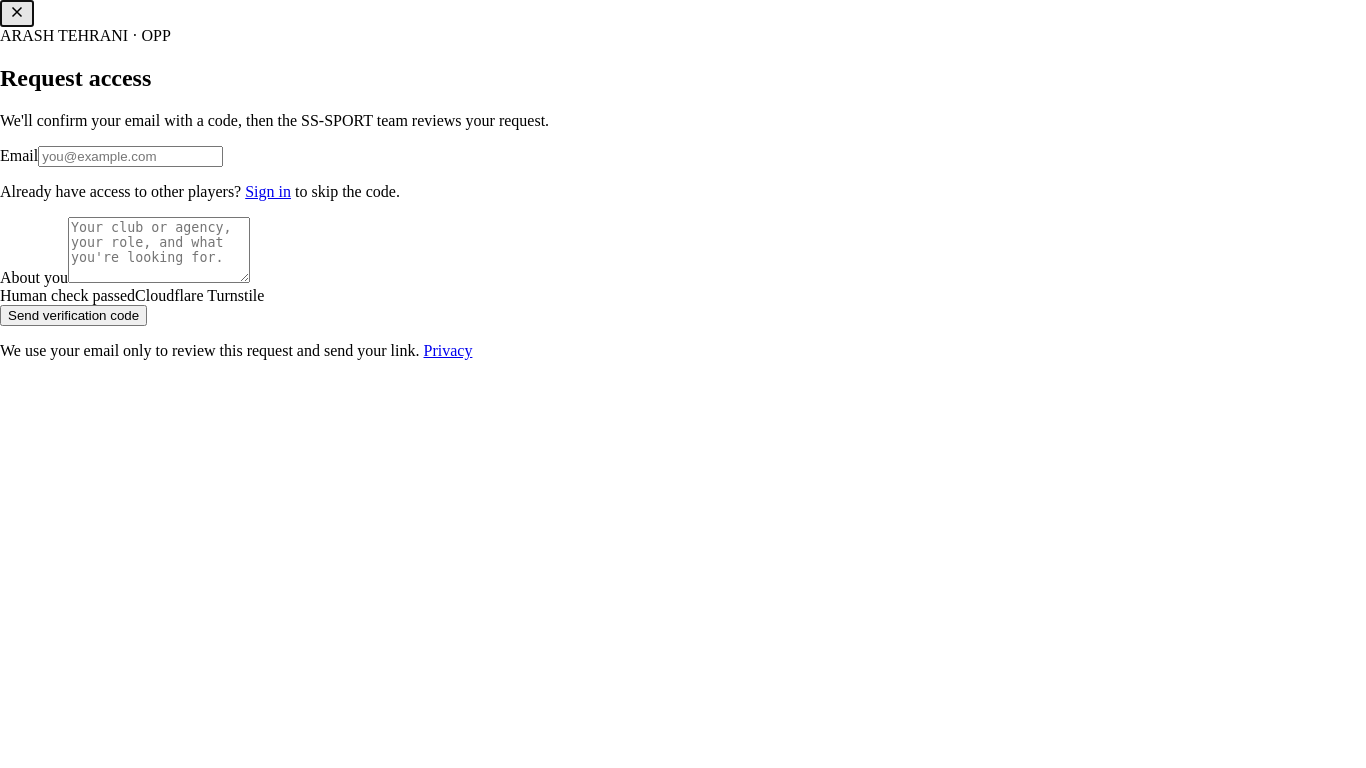
it: RequestAccessModal (P-3 UI, canvas Locked modal), signed out › stays on the form and shows why when the code was refused
This screenshot has width=1366, height=768.
Type "scout@club.com" into the field labelled "Email" at (131, 156), box [38,146,223,167]
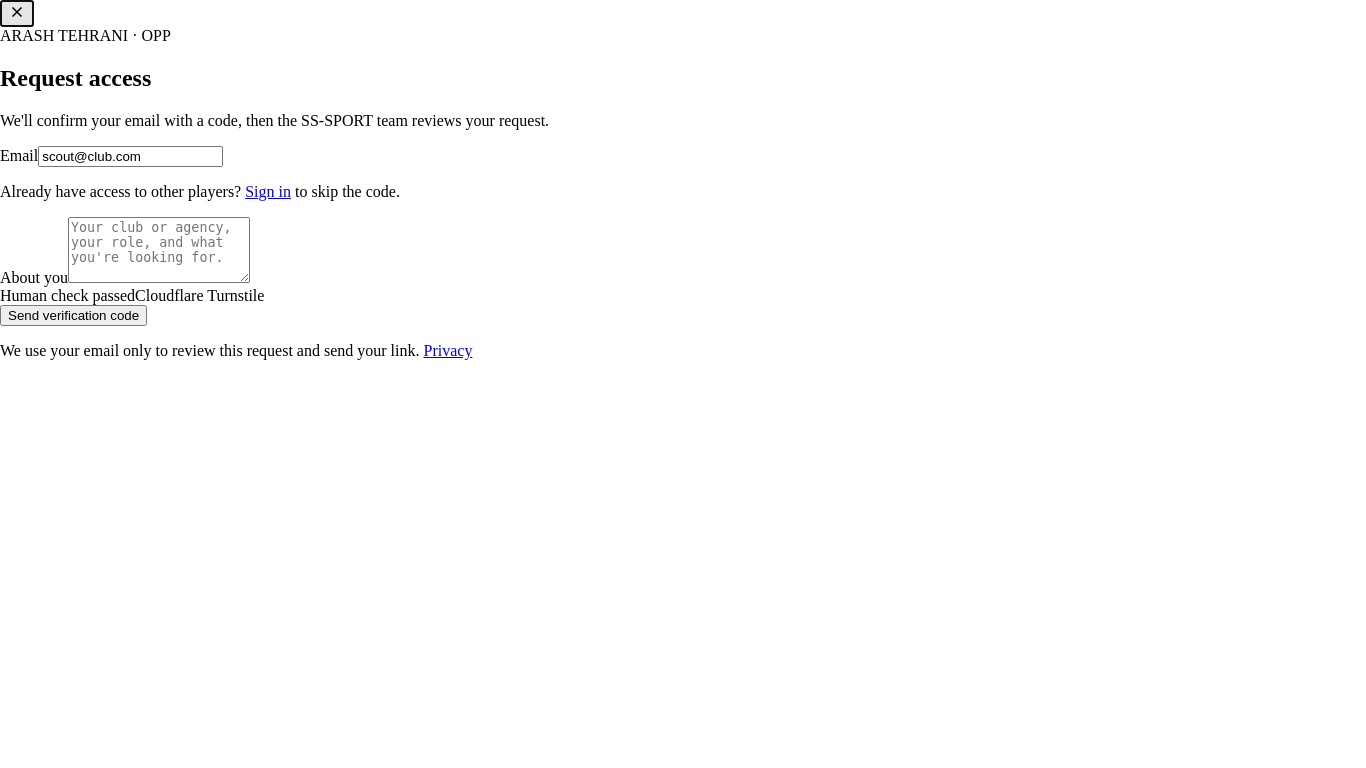
Type "Head scout at Club Aurora" into the text box labelled "About you" at (159, 250), box [68,217,250,283]
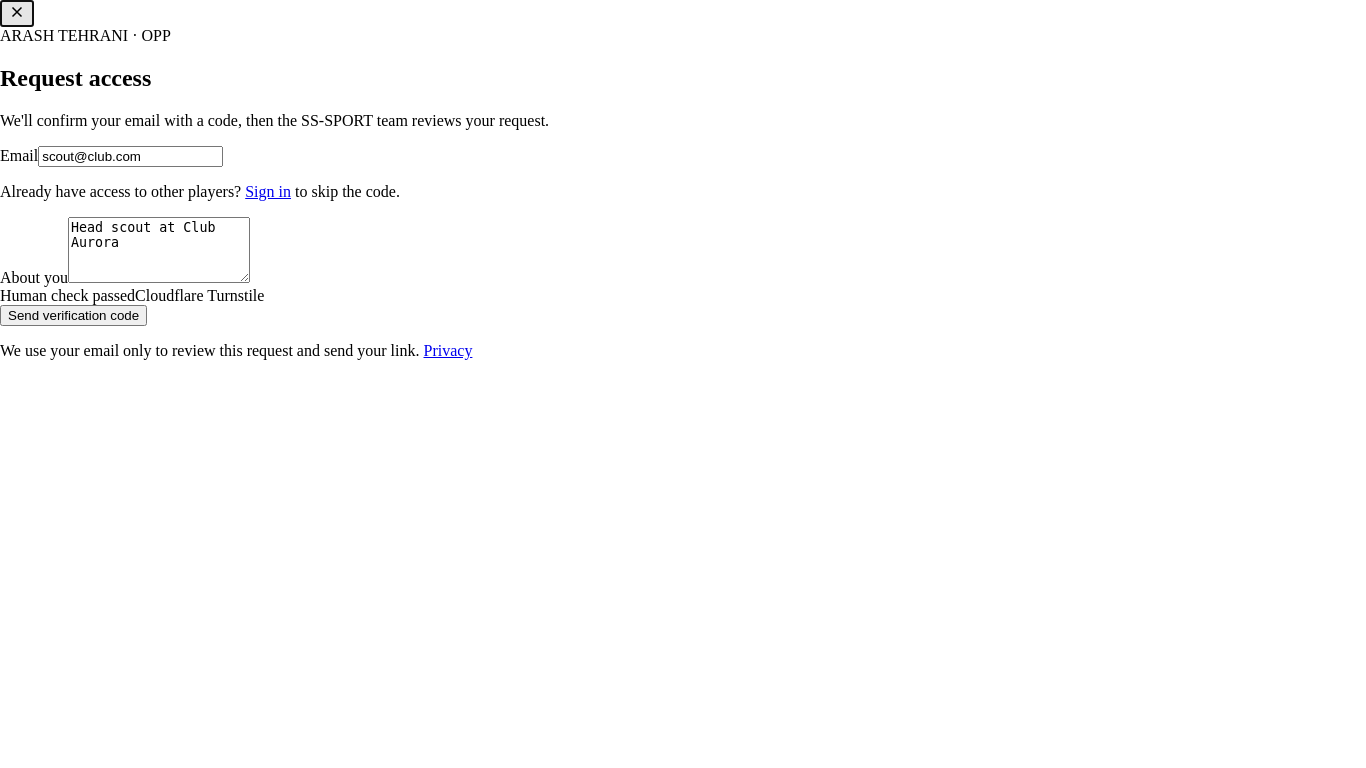
Click the button "Send verification code" at (74, 315), box [0,305,147,326]
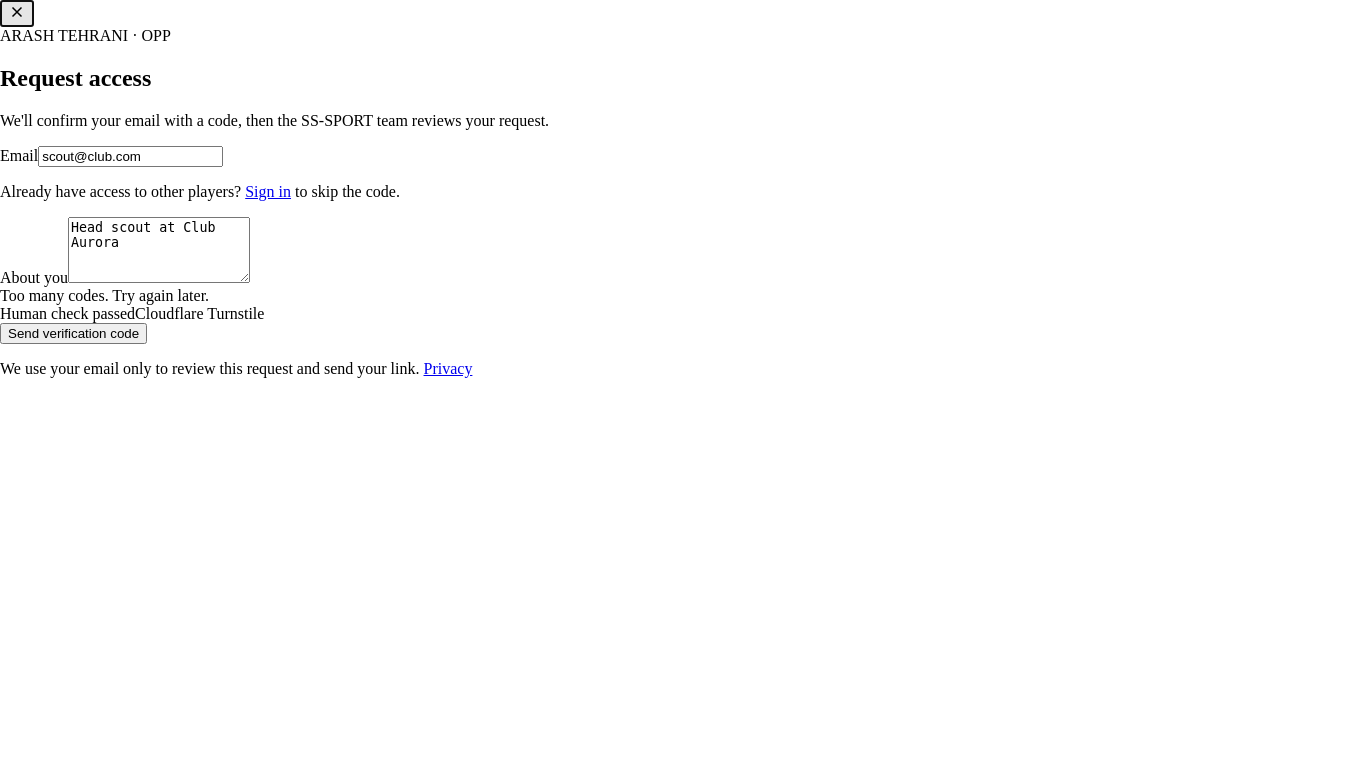
Expected: the text "Too many codes. Try again later." is shown, [0,287,209,304]
